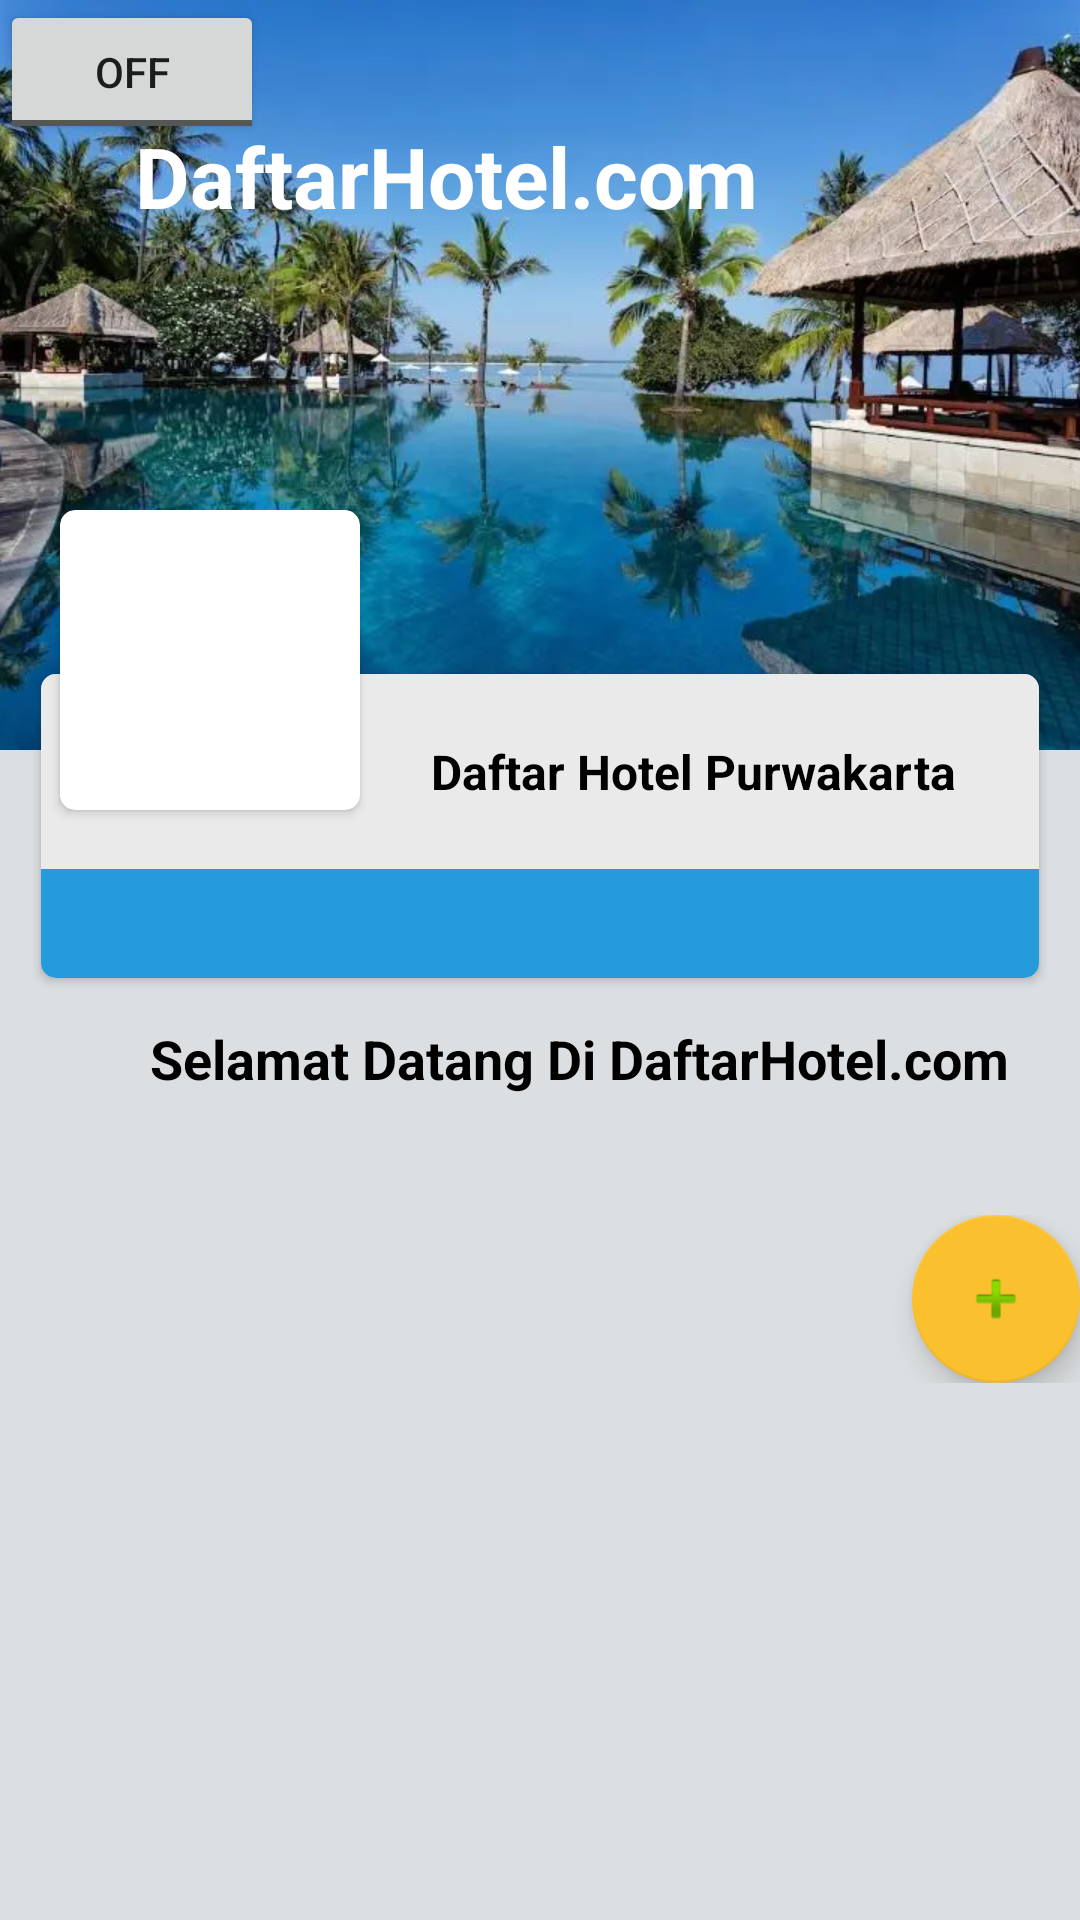

Locate icon controls on the screen. Image size 1080w x 1920h, boxes as (x1,y1,x2,y2).
add: (912,1215,1080,1383)
